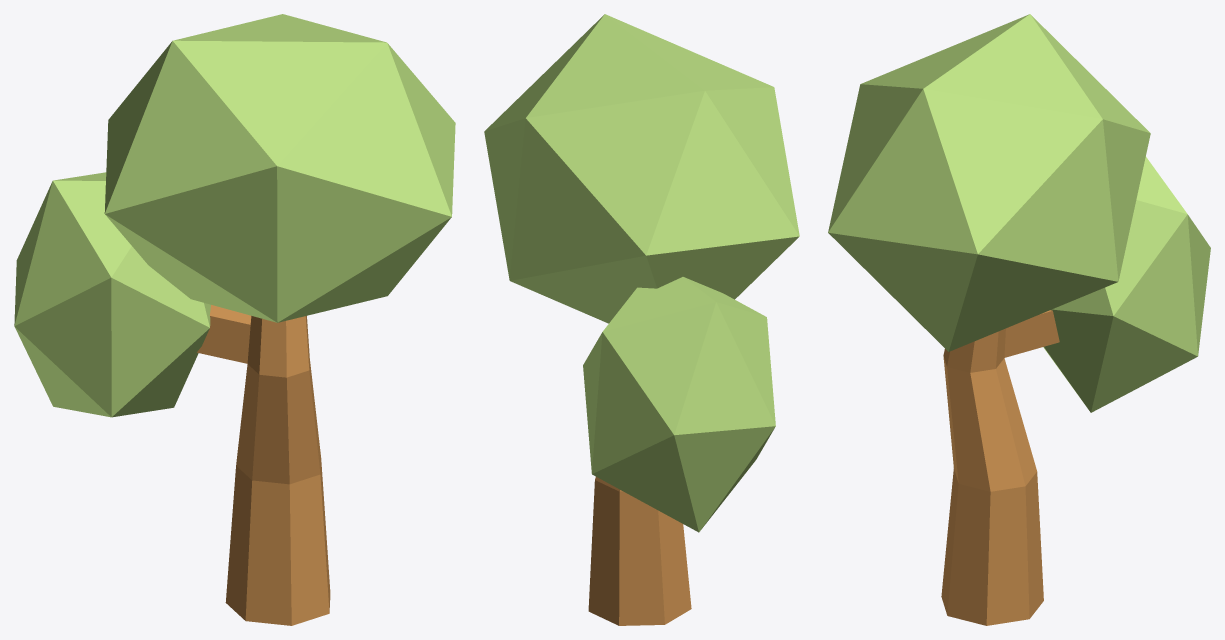
Rendered from pohon 1.fbx.
The picture shows the model from 3 angles, left to right: view 1: azimuth 30°, elevation 25°; view 2: azimuth 150°, elevation 25°; view 3: azimuth 270°, elevation 25°; orthographic projection. The views are drawn at different scales.
Parts seen in each view (by area): view 1: Circle.002; view 2: Circle.002; view 3: Circle.002.
Part boxes in pixels (<box>): Circle.002: <box>14,14,455,625</box>; Circle.002: <box>484,14,799,625</box>; Circle.002: <box>828,14,1210,625</box>.
Size of the model in its own units: 379 by 555 by 351.
